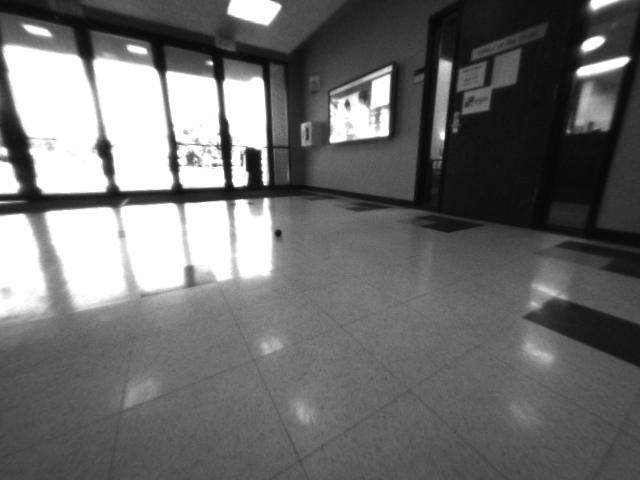dogtoy: (270, 222, 295, 242)
